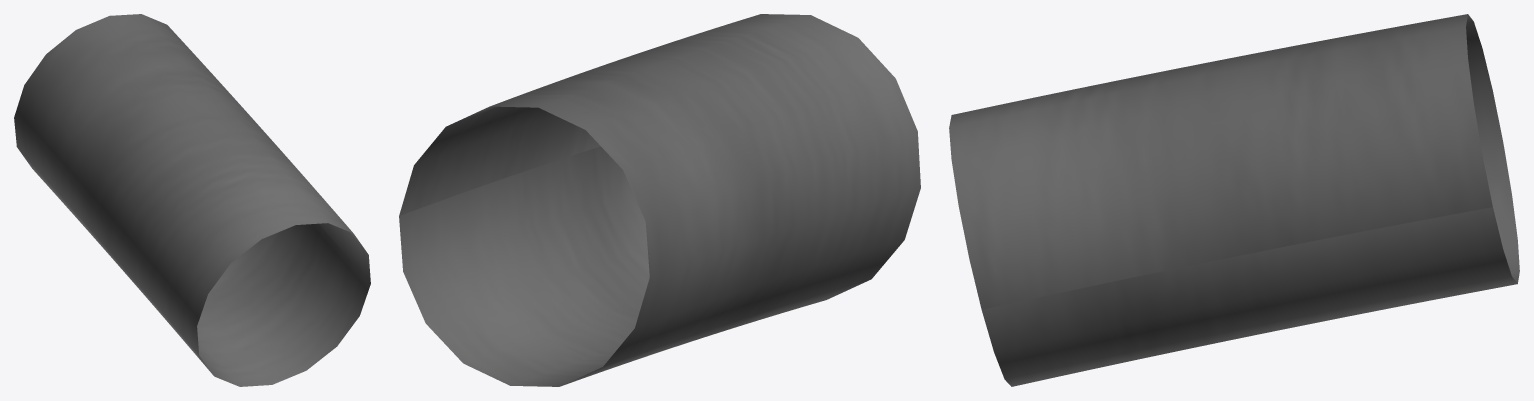
File: mastarmcurve_10x2_c5.obj
3 views of the same model, side by side, from view 1: azimuth 30°, elevation 25°; view 2: azimuth 150°, elevation 25°; view 3: azimuth 270°, elevation 25° (orthographic). The views are drawn at different scales.
Visible parts, largest first — view 1: mastarm_10x2_c5; view 2: mastarm_10x2_c5; view 3: mastarm_10x2_c5.
Part boxes in pixels (x1=…): mastarm_10x2_c5: x1=14, y1=14, x2=370, y2=386; mastarm_10x2_c5: x1=399, y1=14, x2=920, y2=386; mastarm_10x2_c5: x1=949, y1=14, x2=1519, y2=386.
Bounding box in the file's own units: 0.545 × 0.7485 × 1.12.
